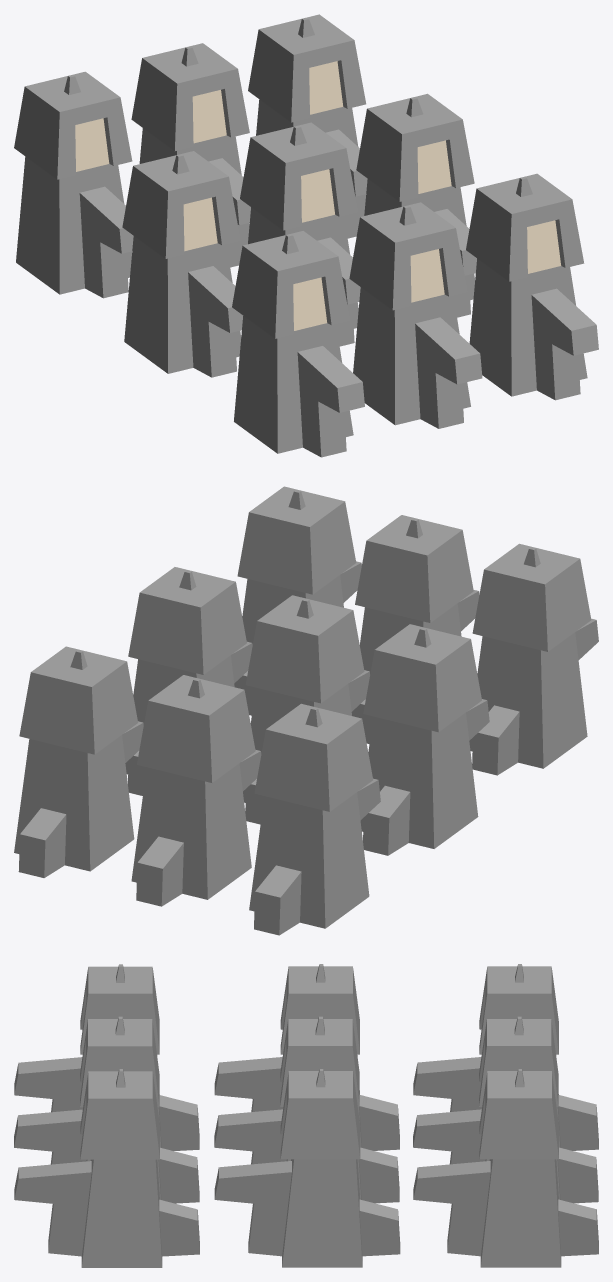
Rendered from cav without flag.fbx.
3 renders of one model, top to bottom at view 1: azimuth 30°, elevation 25°; view 2: azimuth 150°, elevation 25°; view 3: azimuth 270°, elevation 25°, orthographic. The views are drawn at different scales.
Parts seen in each view (by area): view 1: Group17, Group3, Group10, Group24, Group59, Group46, Group60, Group11, Group18, Group25, Group32, Group4 (+12 smaller); view 2: Group52, Group17, Group59, Group45, Group24, Group53, Group4, Group11, Group25, Group46, Group39, Group18 (+15 smaller); view 3: Group52, Group31, Group3, Group32, Group53, Group4, Group11, Group60, Group18, Group25, Group46, Group39 (+15 smaller).
Part boxes in pixels (x1,y1,x2,y2): Group17: (234,316,364,457); Group3: (469,258,598,400); Group10: (353,287,482,428); Group24: (124,236,243,377); Group59: (16,156,133,298); Group46: (131,43,249,150); Group60: (14,71,132,179); Group11: (349,202,467,310); Group18: (232,231,350,338); Group25: (122,151,240,258); Group32: (356,93,474,201); Group4: (466,173,584,281); Group52: (14,721,143,871); Group17: (469,618,598,768); Group59: (249,778,380,928); Group45: (131,749,261,899); Group24: (360,699,489,848); Group53: (19,646,138,754); Group4: (237,486,356,594); Group11: (355,515,473,622); Group25: (363,624,481,732); Group46: (137,675,255,782); Group39: (245,595,364,703); Group18: (472,543,591,651); Group52: (413,1159,561,1267); Group31: (214,1159,362,1267); Group3: (14,1159,162,1267); Group32: (280,1069,360,1159); Group53: (479,1069,558,1159); Group4: (80,1069,159,1159); Group11: (80,1016,159,1107); Group60: (479,964,558,1054); Group18: (80,964,159,1054); Group25: (280,964,359,1054); Group46: (479,1016,558,1106); Group39: (280,1016,359,1106).
Bounding box in the file's own units: 3.34 × 1.98 × 5.89.
